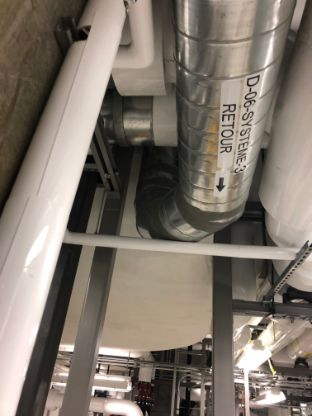Duct: (125, 1, 305, 252)
